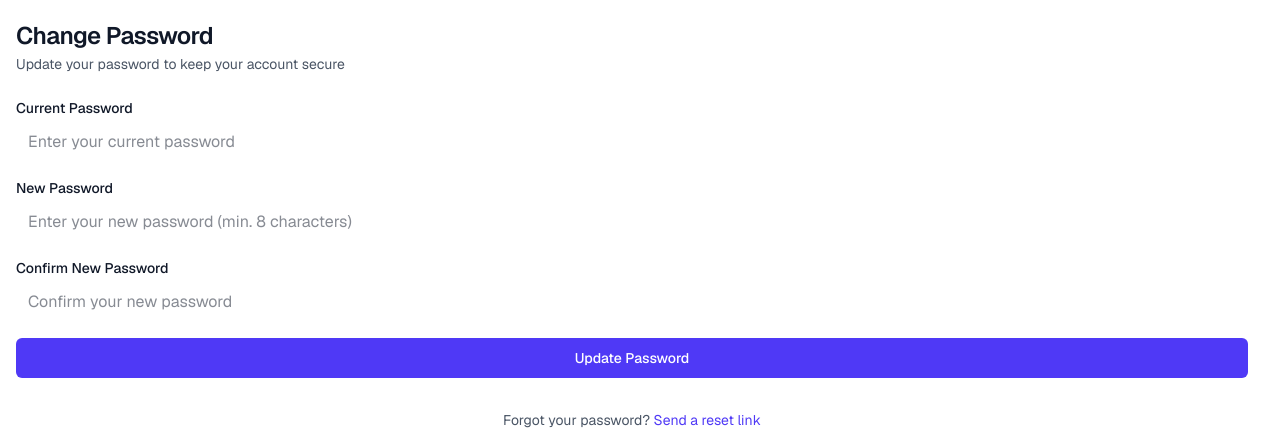
Test: ProfilePasswordUpdateClient › should show error when passwords do not match
This screenshot has width=1272, height=447.
Type "OldPassword123!" into the password field labelled "Current Password". click: (632, 142)
box: x1=16 y1=122 x2=1248 y2=162
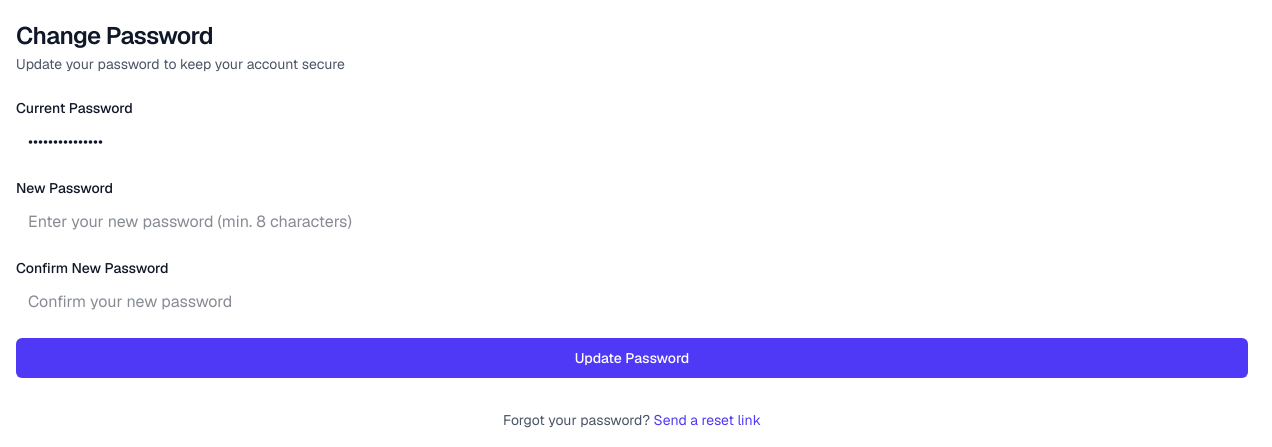
Type "NewPassword123!" into the password field labelled "New Password". click: (632, 222)
box: x1=16 y1=202 x2=1248 y2=242
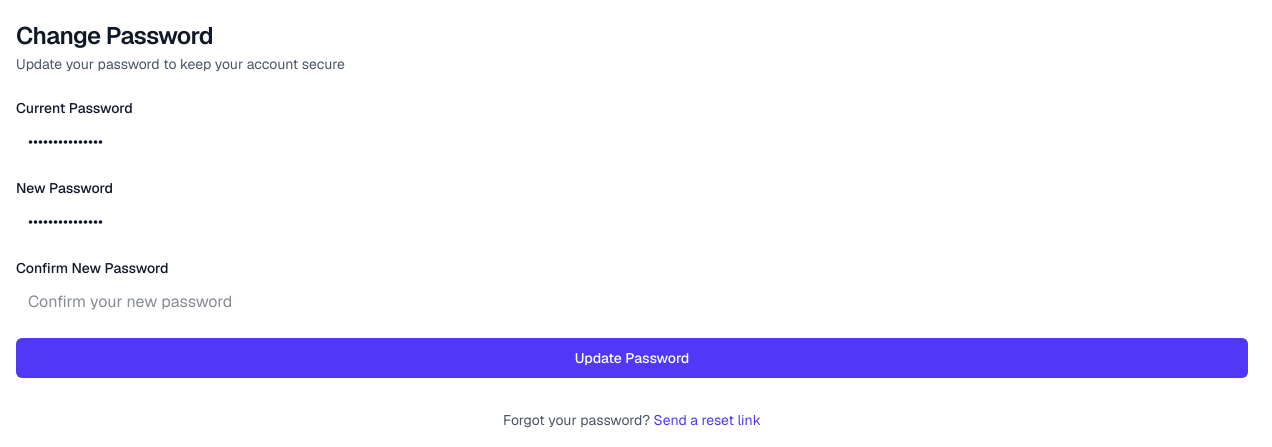
Type "DifferentPassword123!" into the password field labelled "Confirm New Password". click: (632, 302)
box: x1=16 y1=282 x2=1248 y2=322
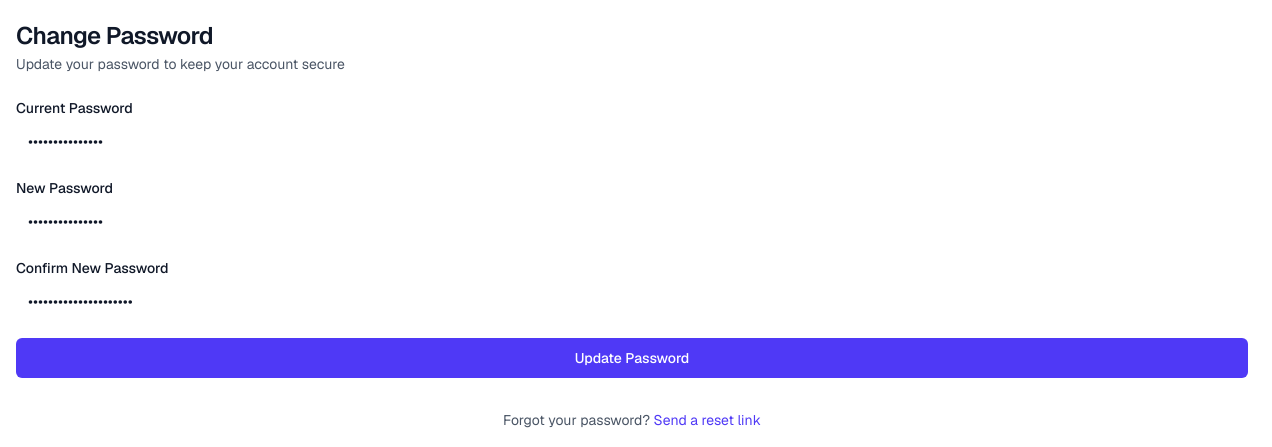
Submit the form "Update Password"
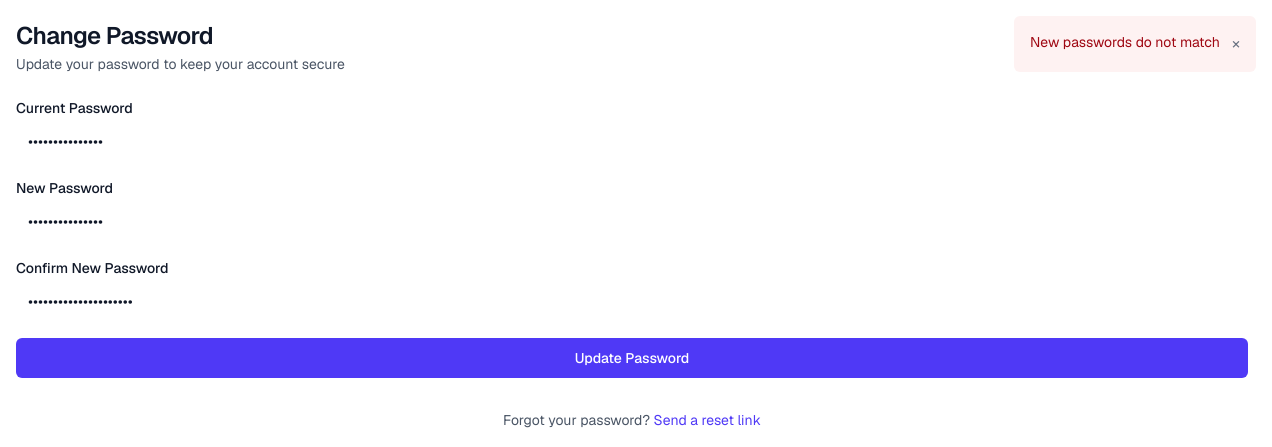
Now the text "New passwords do not match" is shown, box x1=1030 y1=32 x2=1220 y2=52
